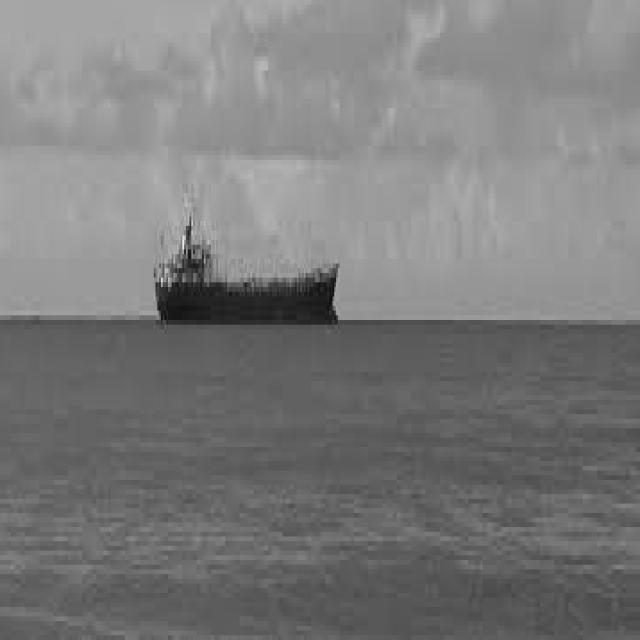cargoship: (150, 202, 344, 318)
